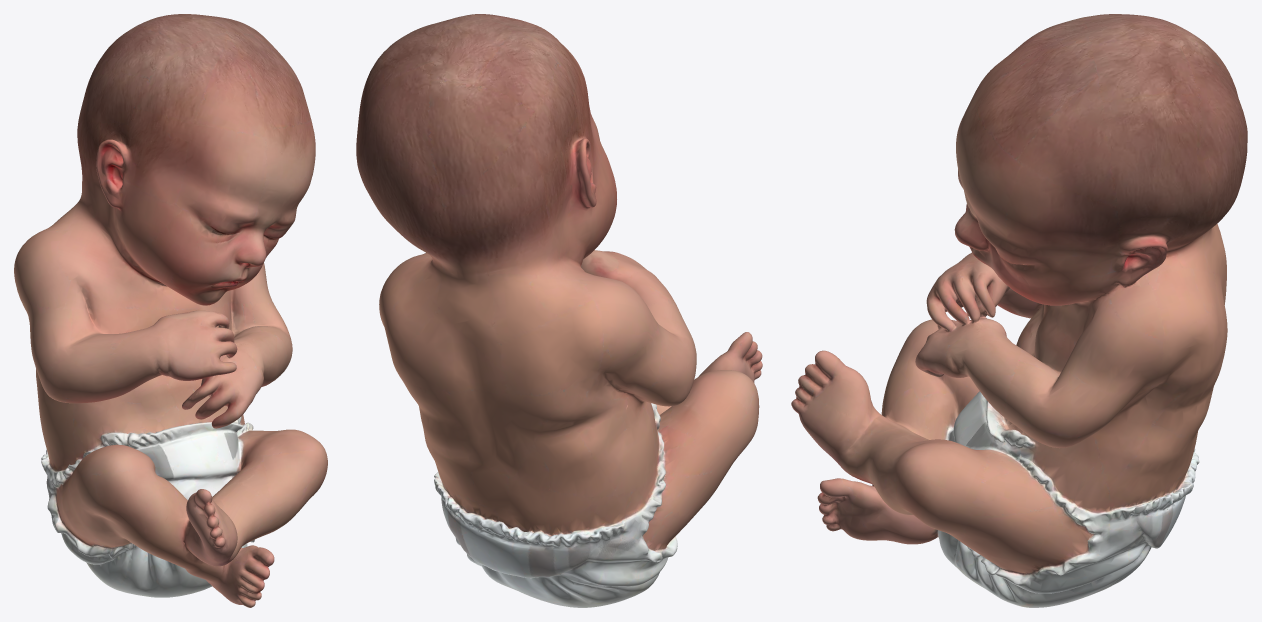
File: baby.glb
The picture shows the model from 3 angles, left to right: view 1: azimuth 30°, elevation 25°; view 2: azimuth 150°, elevation 25°; view 3: azimuth 270°, elevation 25°; orthographic projection. The views are drawn at different scales.
Parts seen in each view (by area): view 1: Object_5; view 2: Object_5; view 3: Object_5.
Boxes of the visible parts, left/top/right/bottom form: Object_5: left=14, top=14, right=327, bottom=607; Object_5: left=356, top=14, right=762, bottom=607; Object_5: left=791, top=14, right=1247, bottom=607.
Bounding box in the file's own units: 1.03 × 1.9 × 1.31.
1 material, 1 textured.
